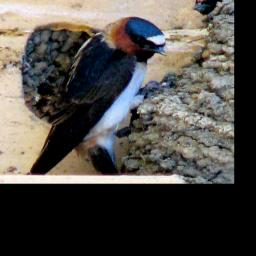Swallow: (20, 15, 167, 173)
